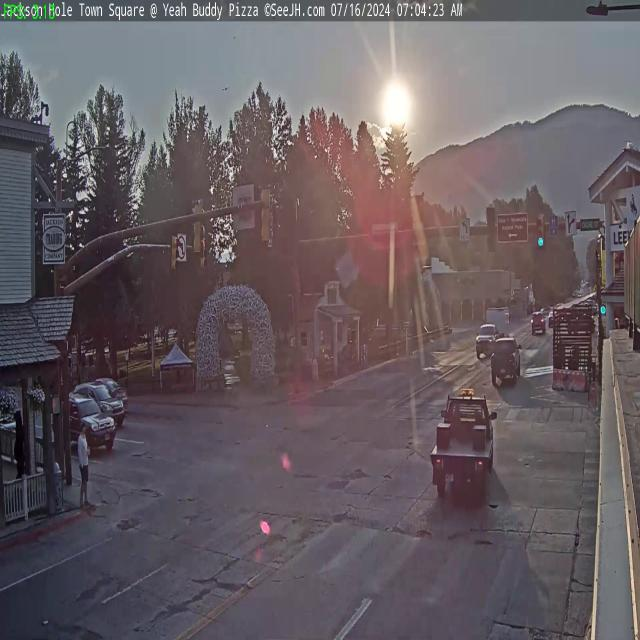person: (77, 418, 89, 509)
pickup: (428, 392, 493, 512), (488, 333, 526, 381)
suv: (53, 396, 117, 456), (84, 381, 129, 425), (475, 321, 498, 356), (530, 310, 546, 334)
traffic light: (260, 184, 274, 246), (191, 199, 203, 254), (487, 207, 496, 252), (171, 230, 179, 274), (536, 214, 545, 248)
